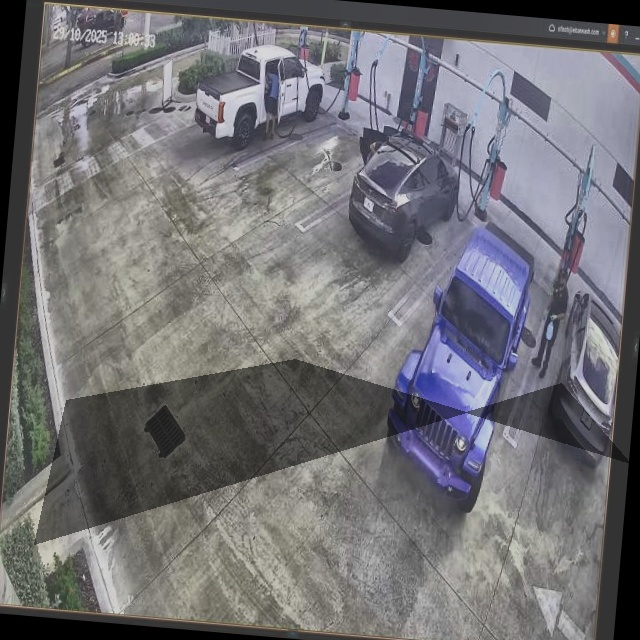Car: (381, 214, 537, 517), (350, 124, 463, 256)
